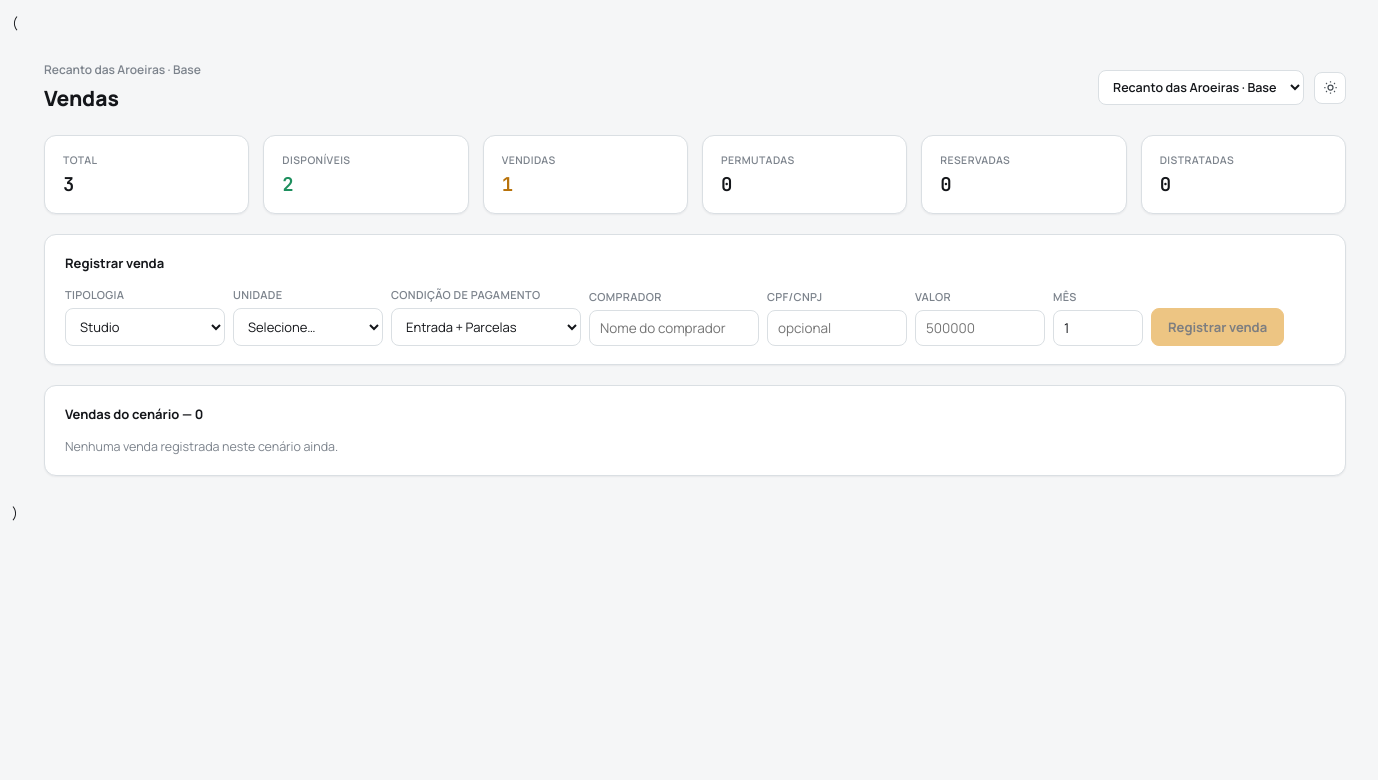
it: VendasPage › mostra o erro do backend quando registrar uma venda falha
This screenshot has width=1378, height=780.
Select "ST-2" in the dropdown labelled "Unidade". click: (308, 327)
box: x1=233 y1=308 x2=383 y2=346
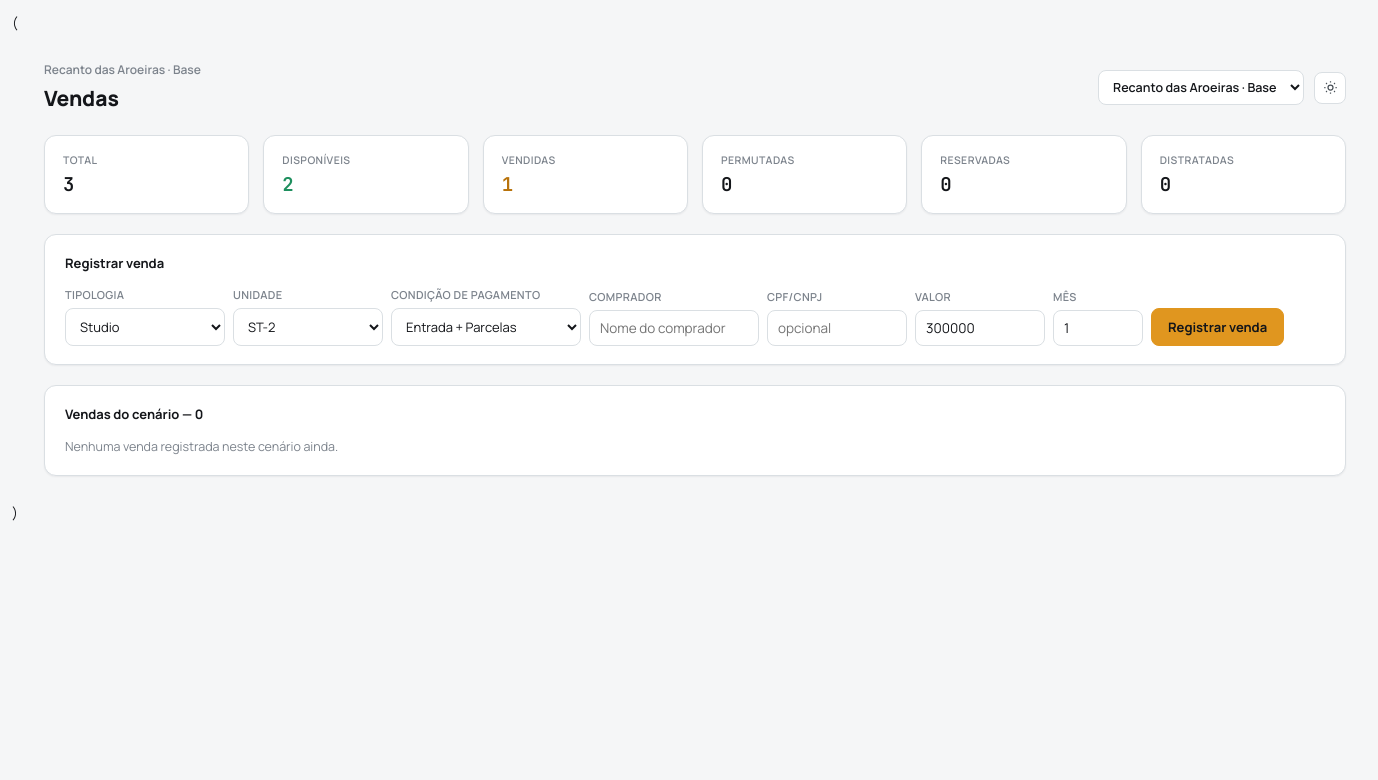
Click the button "Registrar venda". click: (1218, 327)
box: x1=1151 y1=308 x2=1284 y2=346
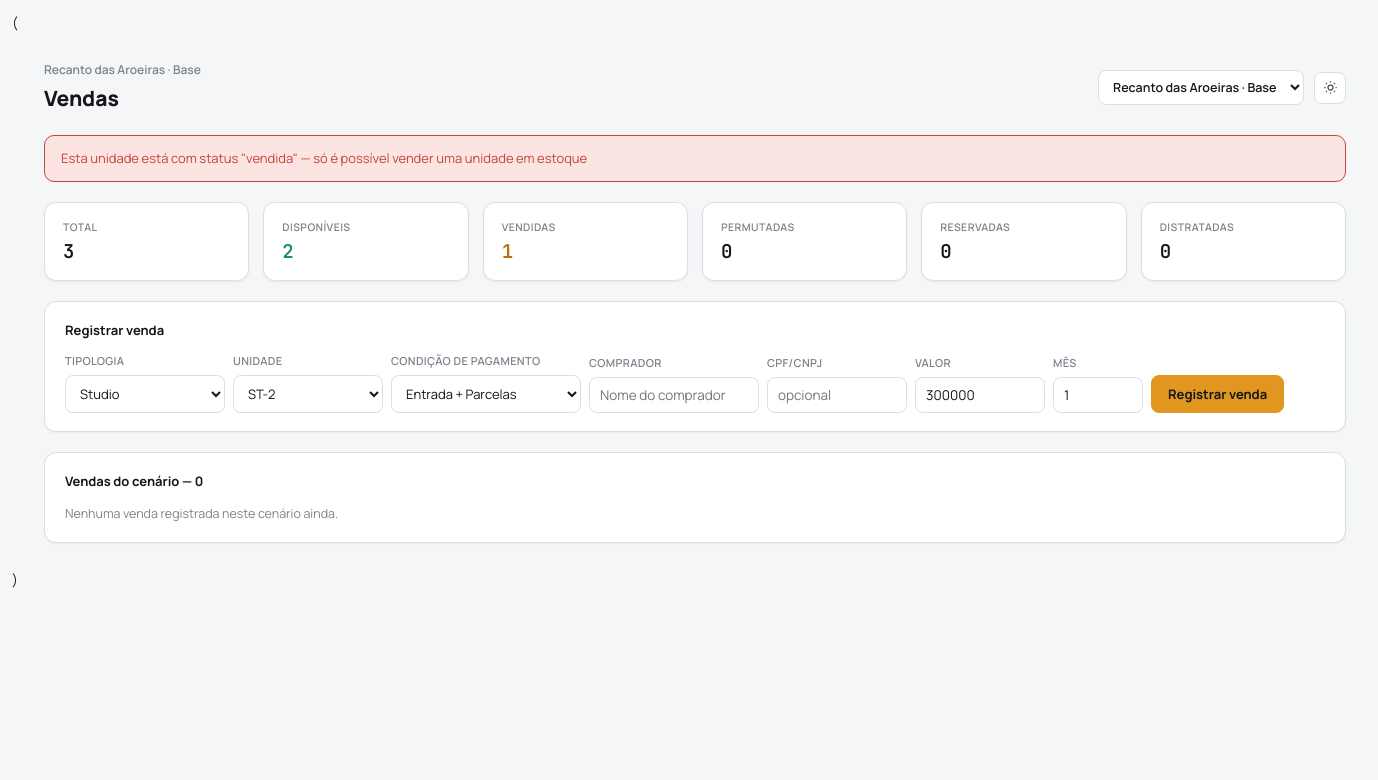
Result: the text "só é possível vender uma unidade em estoque" is shown at x1=61 y1=149 x2=587 y2=167
